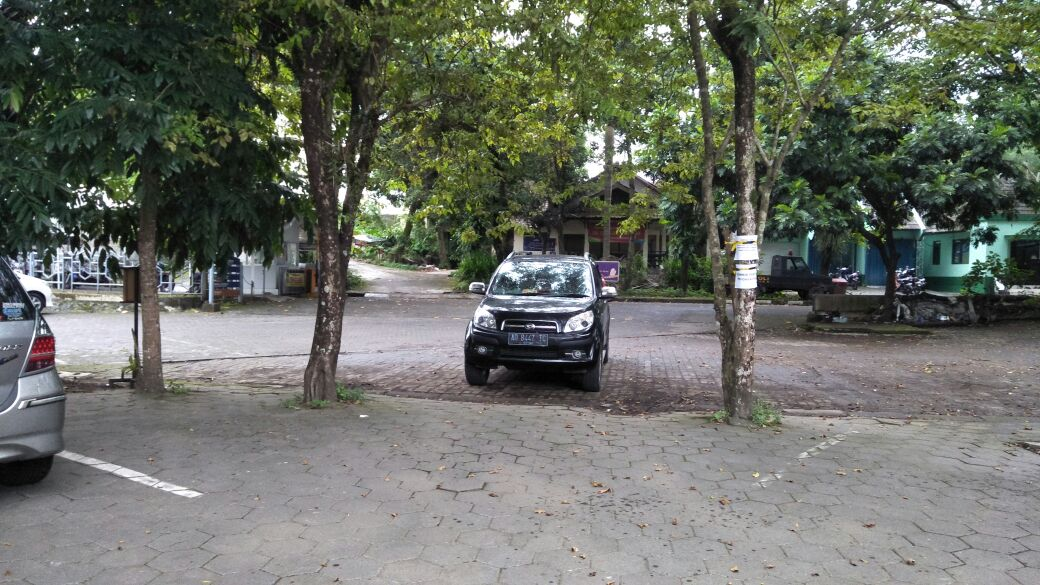plate: (507, 331, 549, 346)
